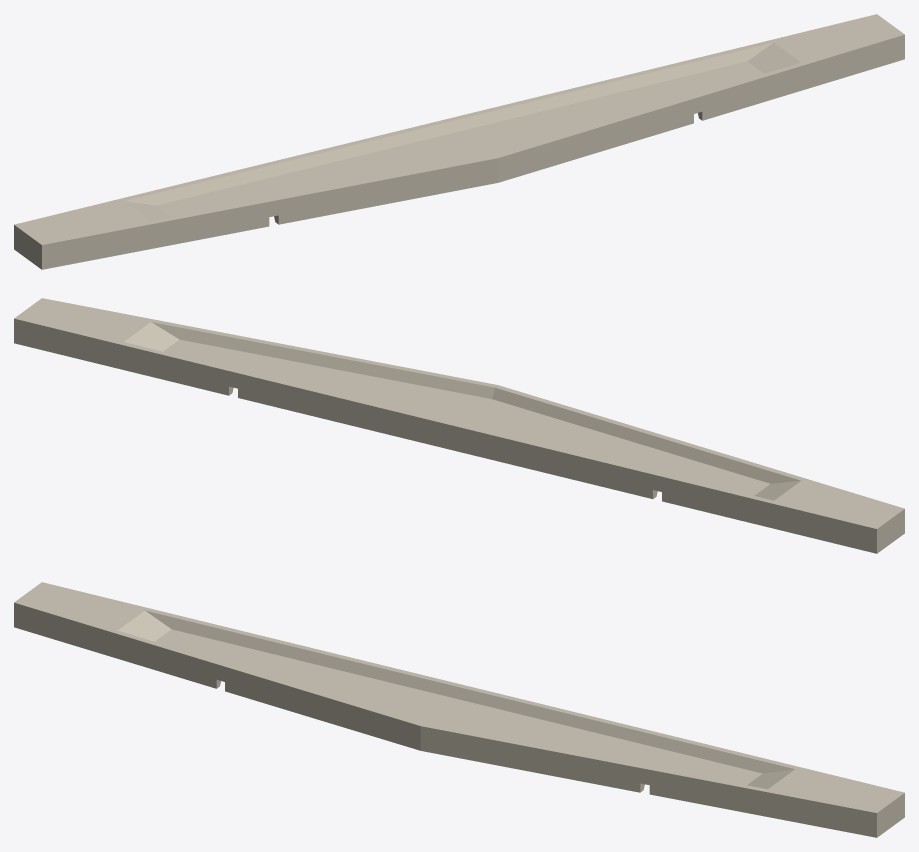
The model's file is Cirtesu - Viga techo (4).obj.
3 renders of one model, top to bottom at view 1: azimuth 30°, elevation 25°; view 2: azimuth 150°, elevation 25°; view 3: azimuth 330°, elevation 25°, orthographic.
Visible parts, largest first — view 1: mesh29, mesh27, mesh18, mesh22, mesh30, mesh31, mesh9; view 2: mesh7, mesh29, mesh27, mesh28, mesh32, mesh31, mesh9; view 3: mesh29, mesh27, mesh22, mesh18, mesh30, mesh33, mesh8.
Boxes of the visible parts, x1,y1,x2,y2 form: mesh29: [156, 61, 763, 216]; mesh27: [14, 14, 904, 244]; mesh18: [42, 158, 498, 269]; mesh22: [498, 34, 904, 182]; mesh30: [124, 42, 773, 205]; mesh31: [747, 42, 800, 73]; mesh9: [14, 225, 41, 269]; mesh7: [14, 318, 876, 553]; mesh29: [163, 339, 770, 495]; mesh27: [14, 298, 904, 528]; mesh28: [151, 322, 494, 398]; mesh32: [492, 387, 800, 483]; mesh31: [124, 322, 179, 351]; mesh9: [877, 509, 904, 553]; mesh29: [155, 629, 762, 784]; mesh27: [14, 582, 904, 812]; mesh22: [420, 726, 876, 837]; mesh18: [14, 602, 420, 750]; mesh30: [145, 610, 794, 773]; mesh33: [118, 610, 171, 641]; mesh8: [877, 793, 904, 837].
Bounding box in the file's own units: 14.6 × 0.4 × 1.55.
